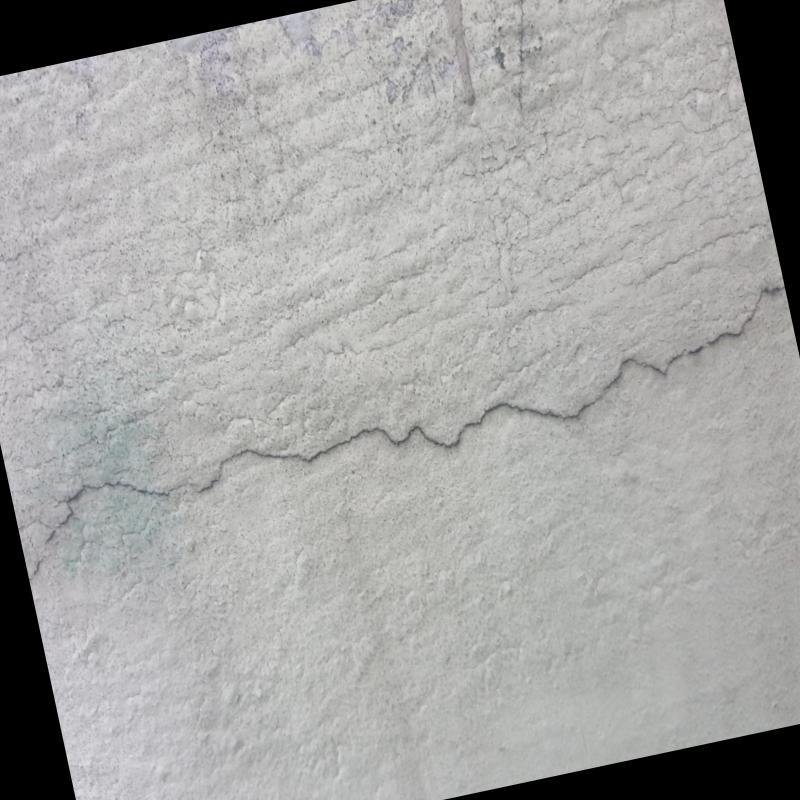crack: (40, 277, 785, 549)
